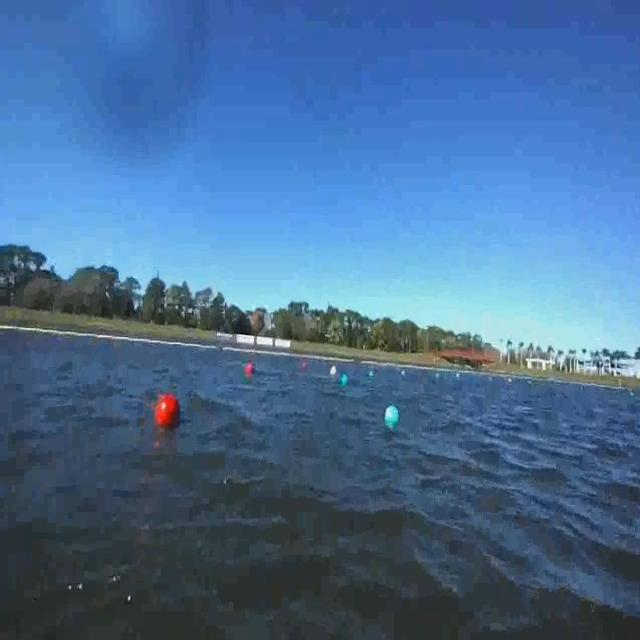green-buoy: (385, 405, 400, 431), (342, 372, 349, 384)
red-buoy: (157, 395, 182, 431), (247, 362, 254, 375)
